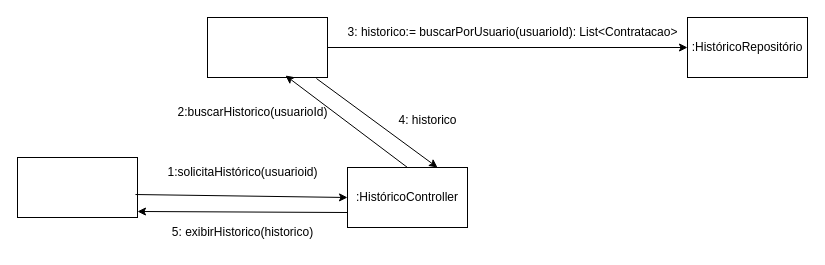
The diagram is 825 pixels wide and 265 high, and some of its shapes have lost their labels. Here are the shapes that lost their labels. From the top down, the centre of each, then its label:
At (x=267, y=47): ":HistóricoService".
At (x=77, y=187): ":Usuário".
